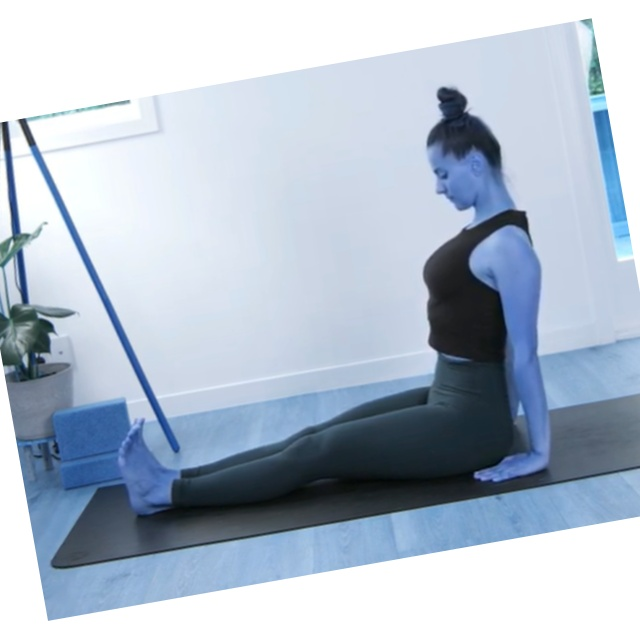Staff_Pose: (114, 103, 555, 528)
